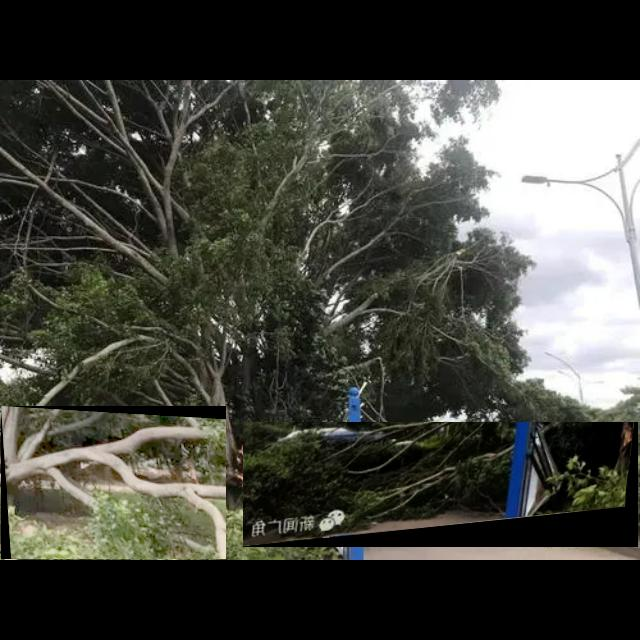Fallen Tree: (243, 422, 639, 548), (1, 406, 227, 560)
